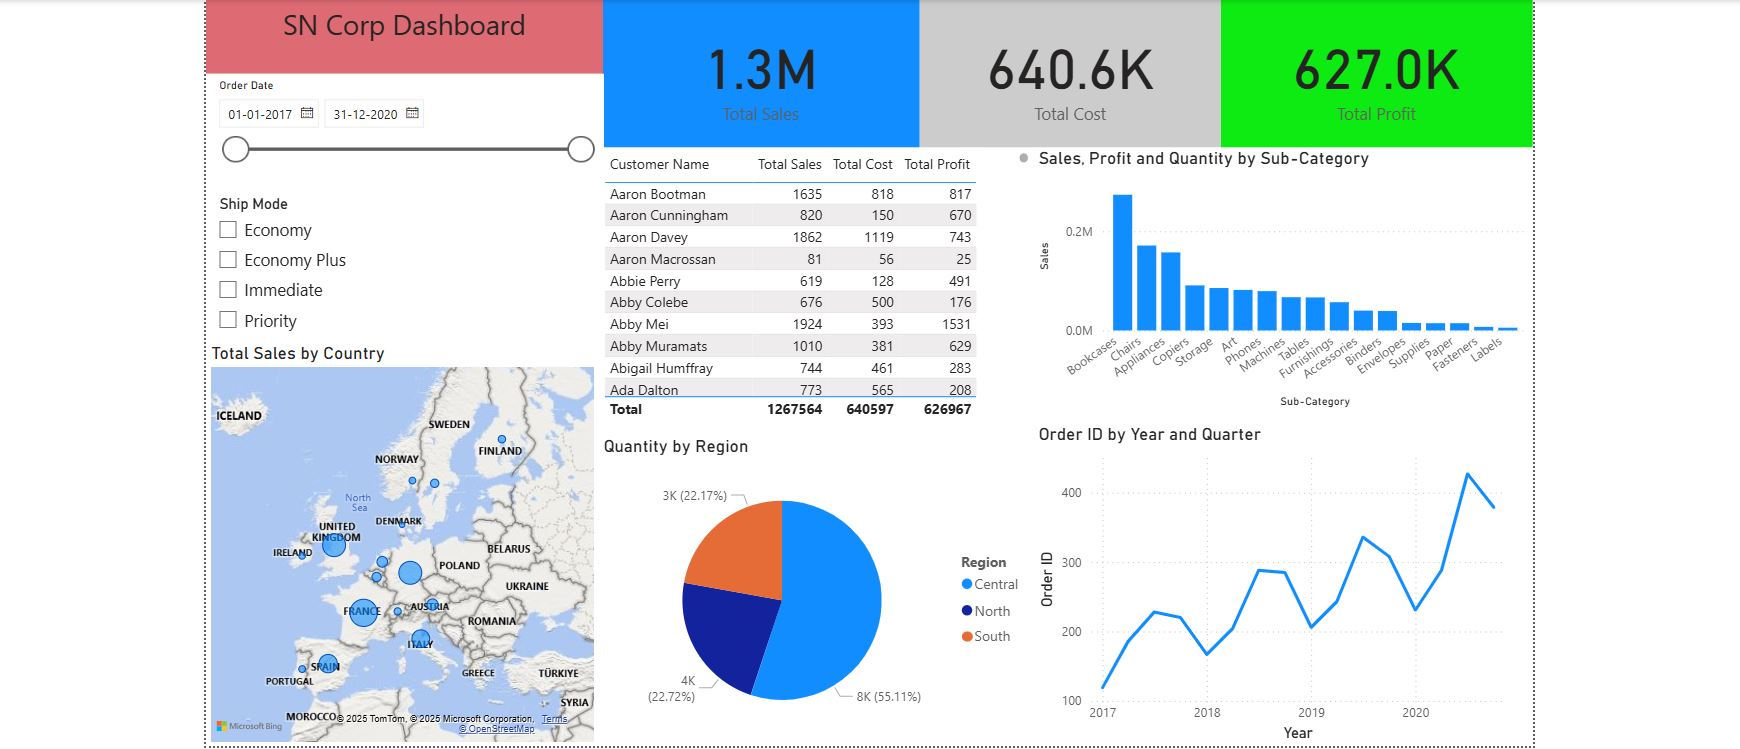

What the dashboard file says about the page in this screenshot:
{"tool":"powerbi","page":{"name":"Page 1","canvas":[1280,720],"ordinal":0},"visuals":[{"type":"card","fields":{"Values":["List of Orders.Sales"]},"box":[382.8,0,306,142.7],"z":0},{"type":"card","fields":{"Values":["List of Orders.Cost"]},"box":[688.9,0,290.9,142.7],"z":1000},{"type":"card","fields":{"Values":["List of Orders.Profit"]},"box":[979.8,0,300.5,142.7],"z":2000},{"type":"tableEx","fields":{"Values":["List of Orders.Customer Name","List of Orders.Sales","List of Orders.Cost","List of Orders.Profit"]},"box":[378.7,142.7,419.9,266.2],"z":3000},{"type":"clusteredColumnChart","fields":{"Y":["List of Orders.Sales"],"Category":["List of Orders.Sub-Category"]},"box":[798.6,142.7,481.6,256.6],"z":4000},{"type":"lineChart","fields":{"Y":["List of Orders.Order ID"],"Category":["List of Orders.Order Date.Variation.Date Hierarchy.Year","List of Orders.Order Date.Variation.Date Hierarchy.Quarter"]},"box":[798.6,408.9,462.4,311.5],"z":5000},{"type":"pieChart","fields":{"Category":["List of Orders.Region"],"Y":["List of Orders.Quantity"]},"box":[378.7,419.9,419.9,300.5],"z":6000},{"type":"map","fields":{"Category":["List of Orders.Country"],"Size":["List of Orders.Sales"]},"box":[0,330.7,378.7,389.7],"z":7000},{"type":"textbox","box":[0,0,382.8,71.4],"z":8000},{"type":"slicer","fields":{"Values":["List of Orders.Ship Mode"]},"box":[0,183.9,378.7,146.8],"z":9000},{"type":"slicer","fields":{"Values":["List of Orders.Order Date"]},"box":[0,71.4,382.8,101.5],"z":10000}]}

Visuals, with their boxes on the page's 1280x720 design canvas (x1, y1, x2, y2). These are canvas units, not pixel positions in the 1740x749 screenshot, which may show the page scaled, cropped or inside an application window:
card - List of Orders.Sales: bbox=(383, 0, 689, 143)
card - List of Orders.Cost: bbox=(689, 0, 980, 143)
card - List of Orders.Profit: bbox=(980, 0, 1280, 143)
tableEx - List of Orders.Customer Name x List of Orders.Sales: bbox=(379, 143, 799, 409)
clusteredColumnChart - List of Orders.Sales x List of Orders.Sub-Category: bbox=(799, 143, 1280, 399)
lineChart - List of Orders.Order ID x List of Orders.Order Date.Variation.Date Hierarchy.Year: bbox=(799, 409, 1261, 720)
pieChart - List of Orders.Region x List of Orders.Quantity: bbox=(379, 420, 799, 720)
map - List of Orders.Country x List of Orders.Sales: bbox=(0, 331, 379, 720)
textbox: bbox=(0, 0, 383, 71)
slicer - List of Orders.Ship Mode: bbox=(0, 184, 379, 331)
slicer - List of Orders.Order Date: bbox=(0, 71, 383, 173)
